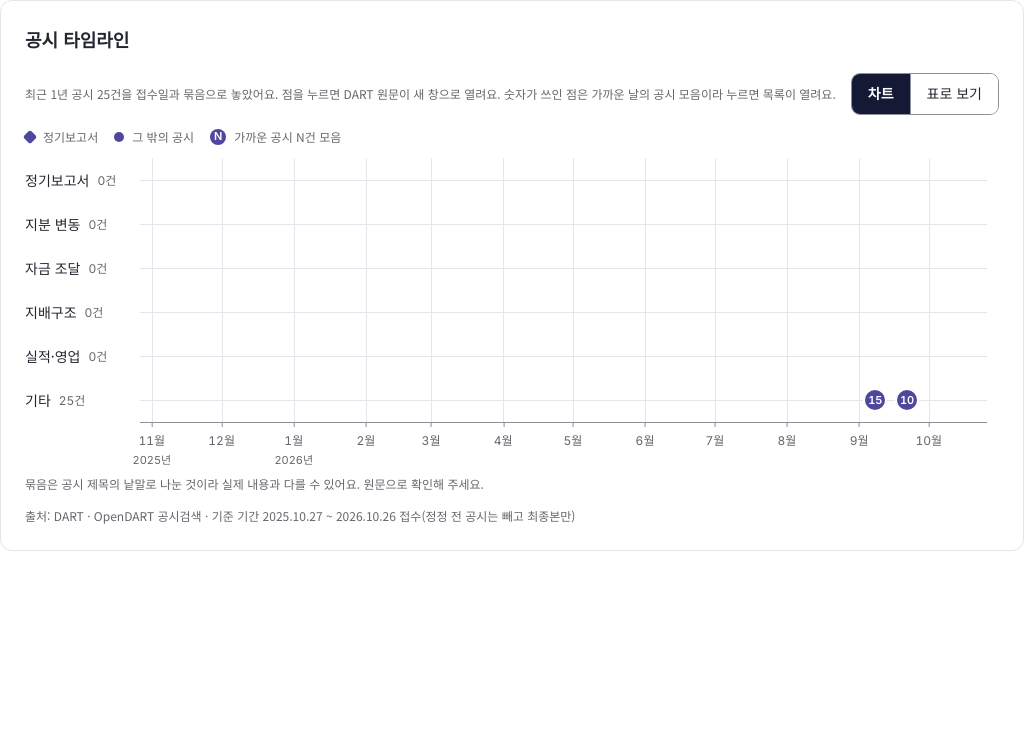
Test: 공시 타임라인 차트(FS-58, #445) › 표는 20건씩 보이고 더 보기로 나머지를 연다
The width and height of the screenshot is (1024, 754).
Check: the element named "최근 1년 공시 타임라인" is shown, box [25,158,999,462]
Click the button "표로 보기" at (954,94), box [910,74,998,114]
(page scrolled)
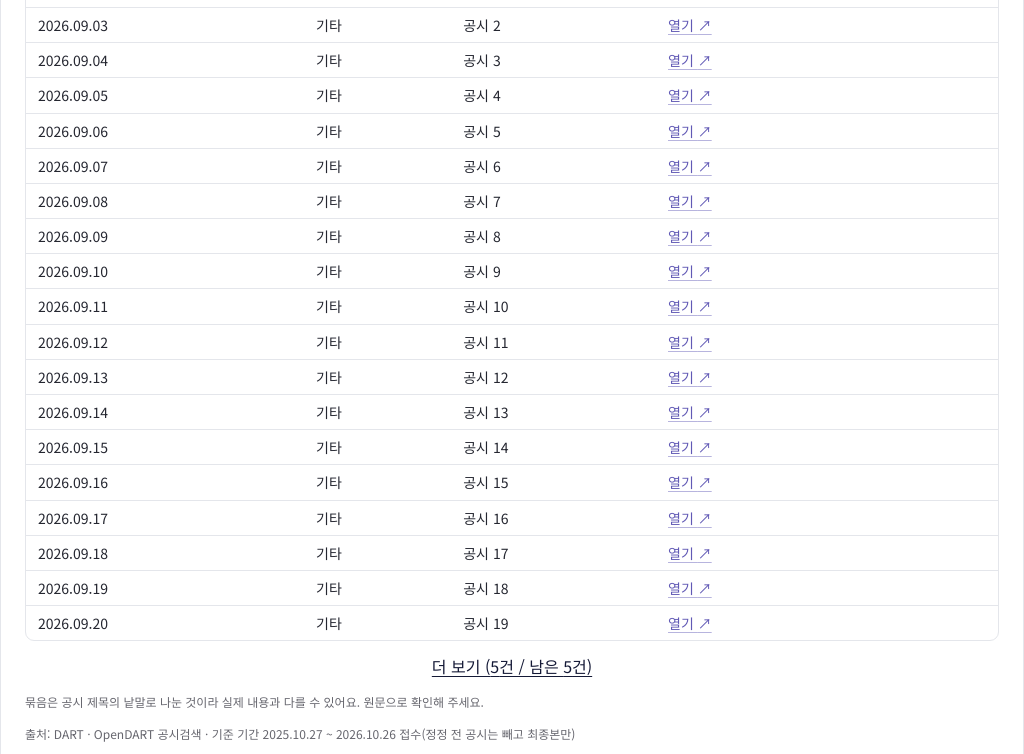
Check: the number of rows is 21
Click the button "더 보기 (5건 / 남은 5건)" at (512,666), box [432,653,592,680]
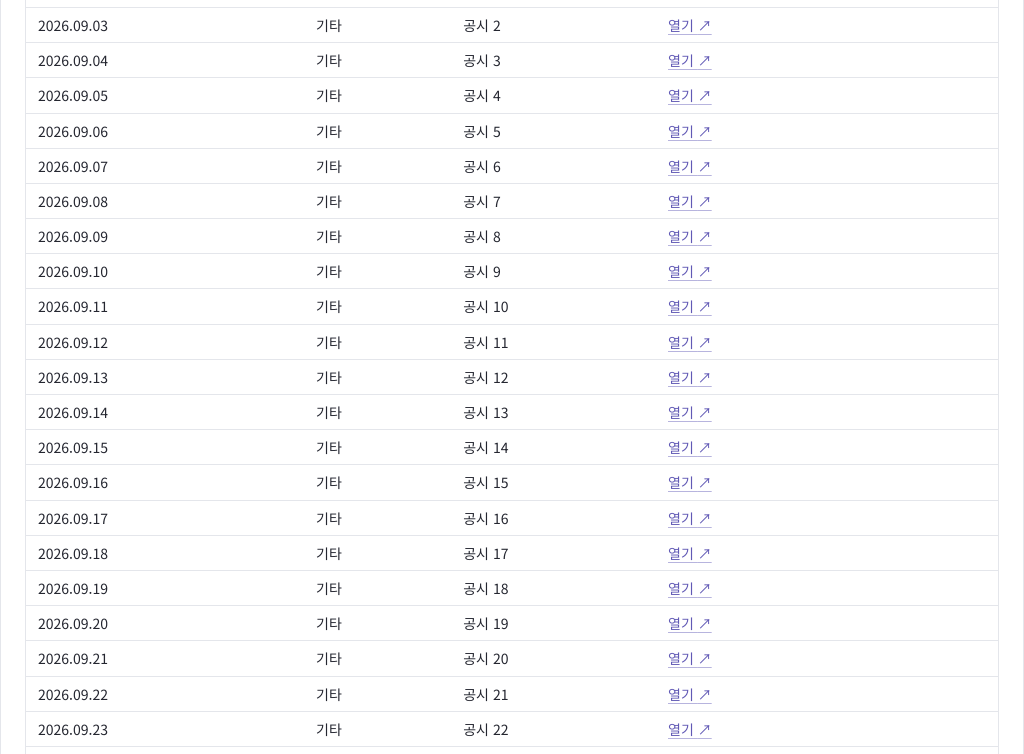
Check: the button "더 보기" is gone
